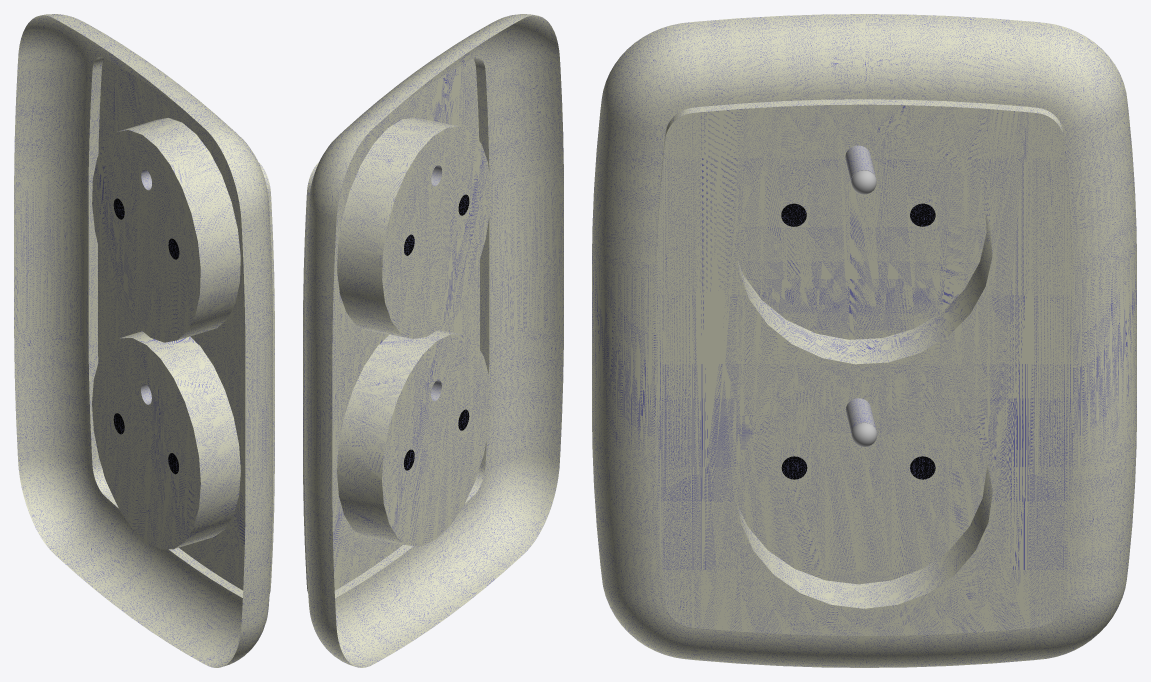
Rendered from concent.dae.
The picture shows the model from 3 angles, left to right: view 1: azimuth 30°, elevation 25°; view 2: azimuth 150°, elevation 25°; view 3: azimuth 270°, elevation 25°; orthographic projection. The views are drawn at different scales.
Parts seen in each view (by area): view 1: SketchUp (×3); view 2: SketchUp (×3); view 3: SketchUp (×3).
Boxes of the visible parts, x1=… form: SketchUp (×3): x1=14, y1=14, x2=274, y2=667; SketchUp (×3): x1=303, y1=14, x2=563, y2=667; SketchUp (×3): x1=592, y1=14, x2=1136, y2=667.
Bounding box in the file's own units: 0.5512 × 3.34 × 4.39.
